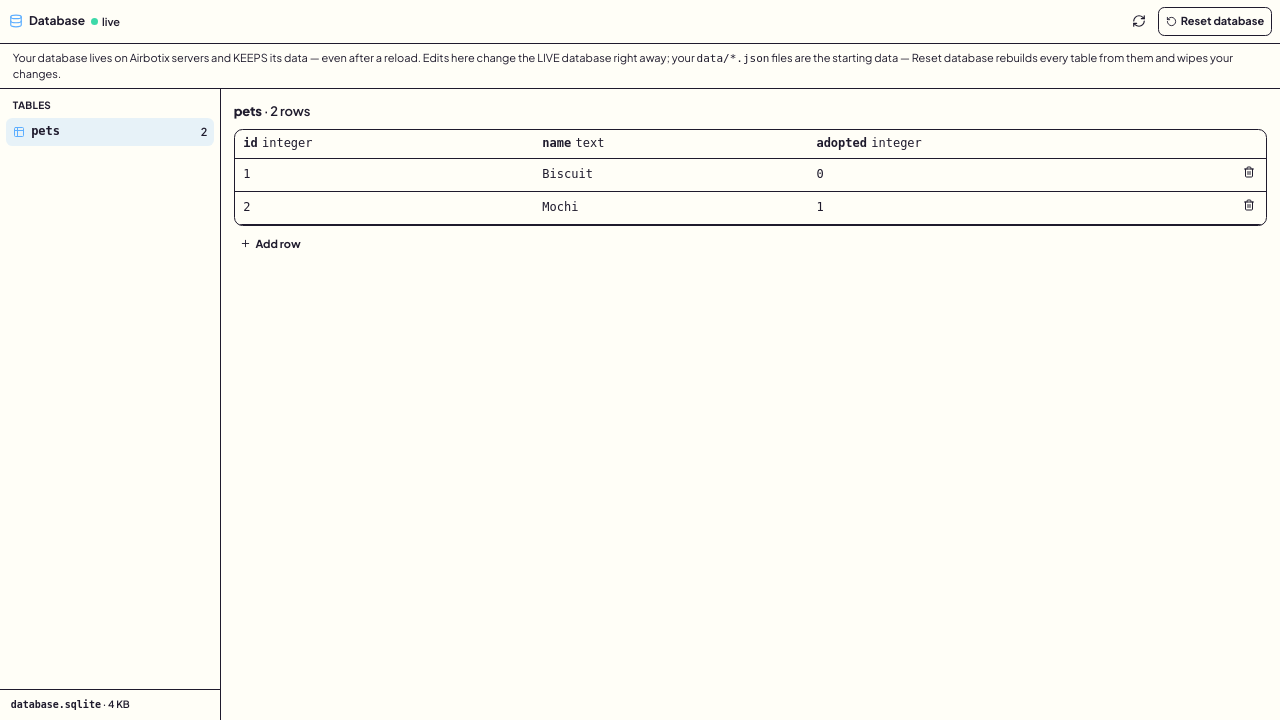
Test: DbTable — inline cell edit (rowid-keyed) › Enter saves via a parameterized UPDATE … WHERE rowid = ?, then re-introspects
Click the button titled "Click to edit".
click(671, 175)  # box [542,164,799,187]
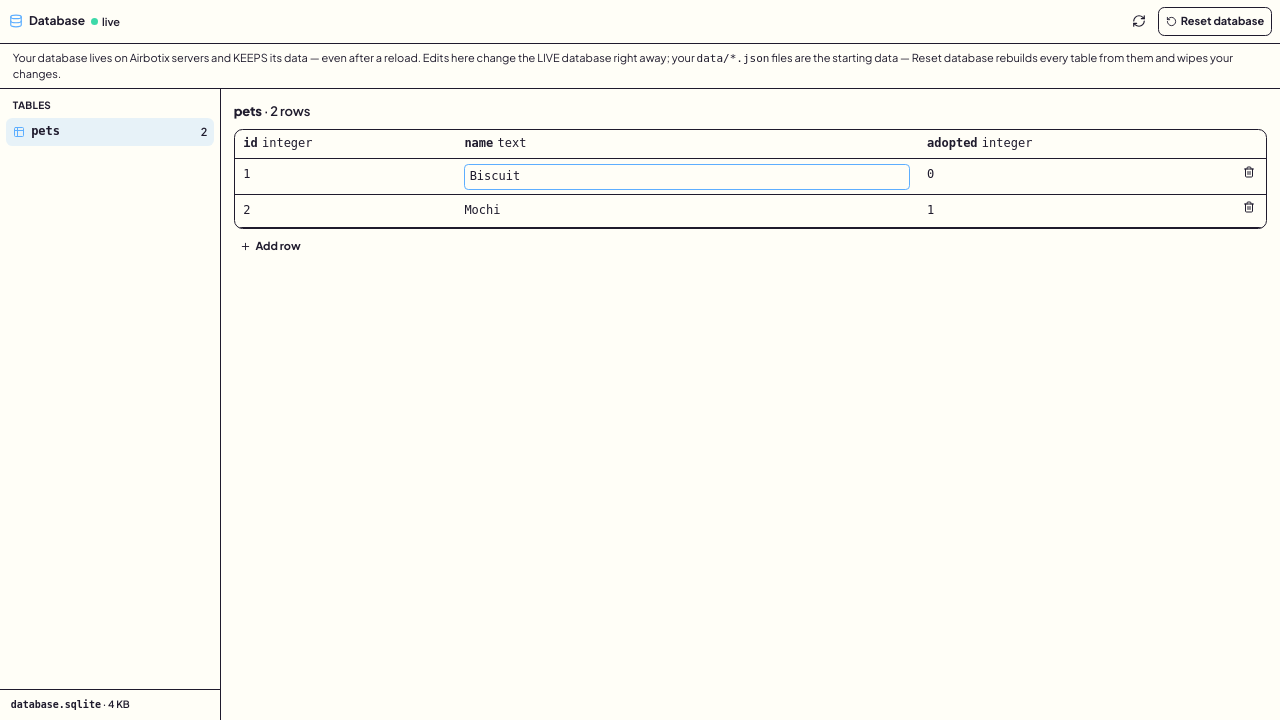
Replace the text in the field with "Rex" at (687, 177), box [464,164,910,190]
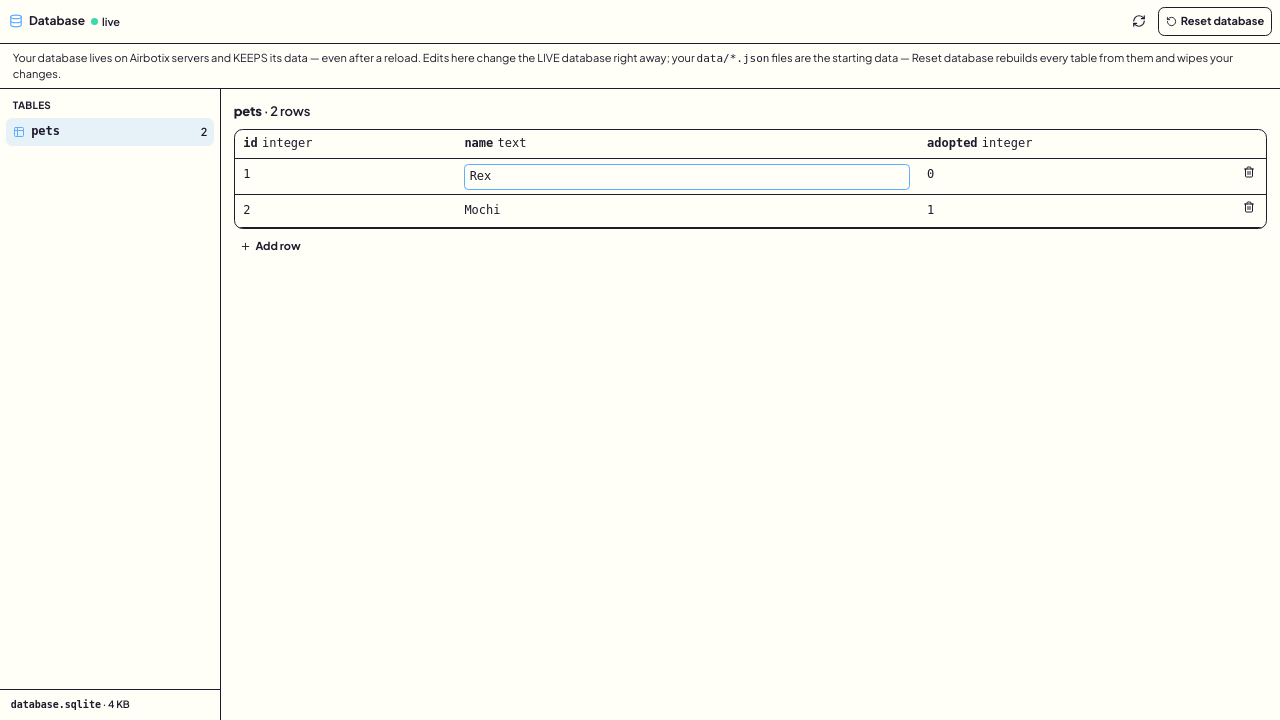
Press Enter in the field, box [464,164,910,190]
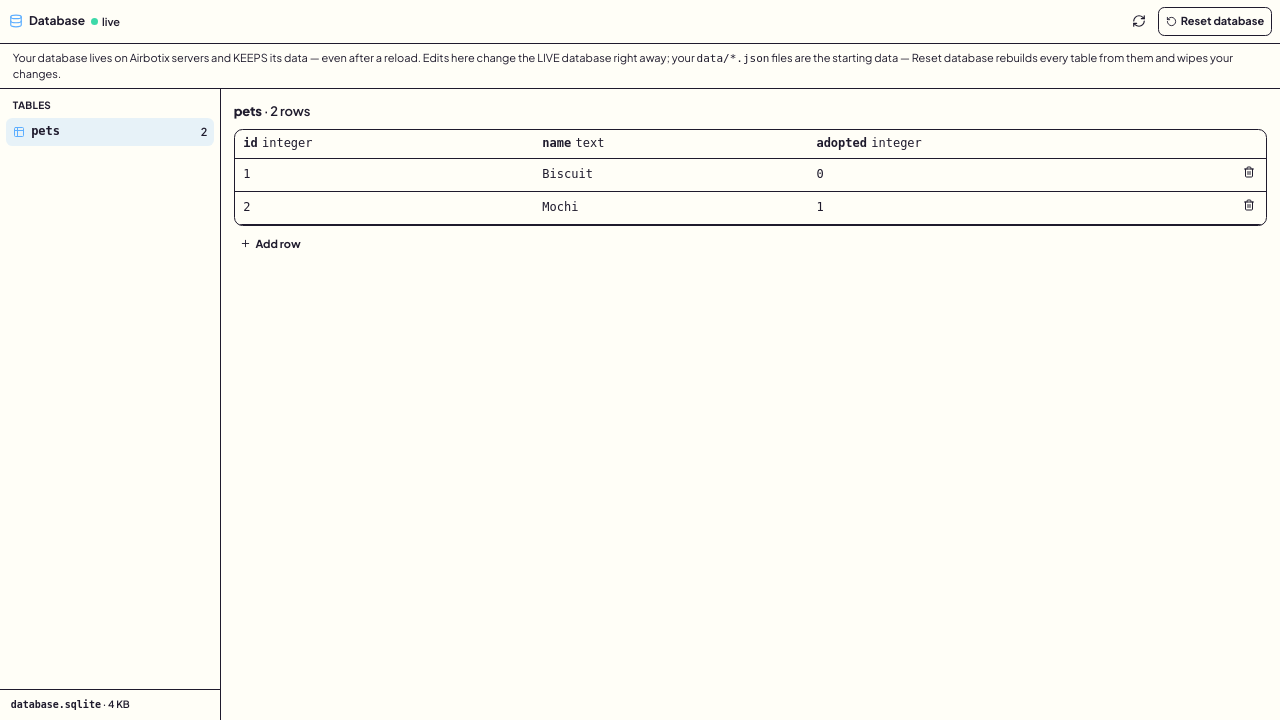
Check: the field is gone
